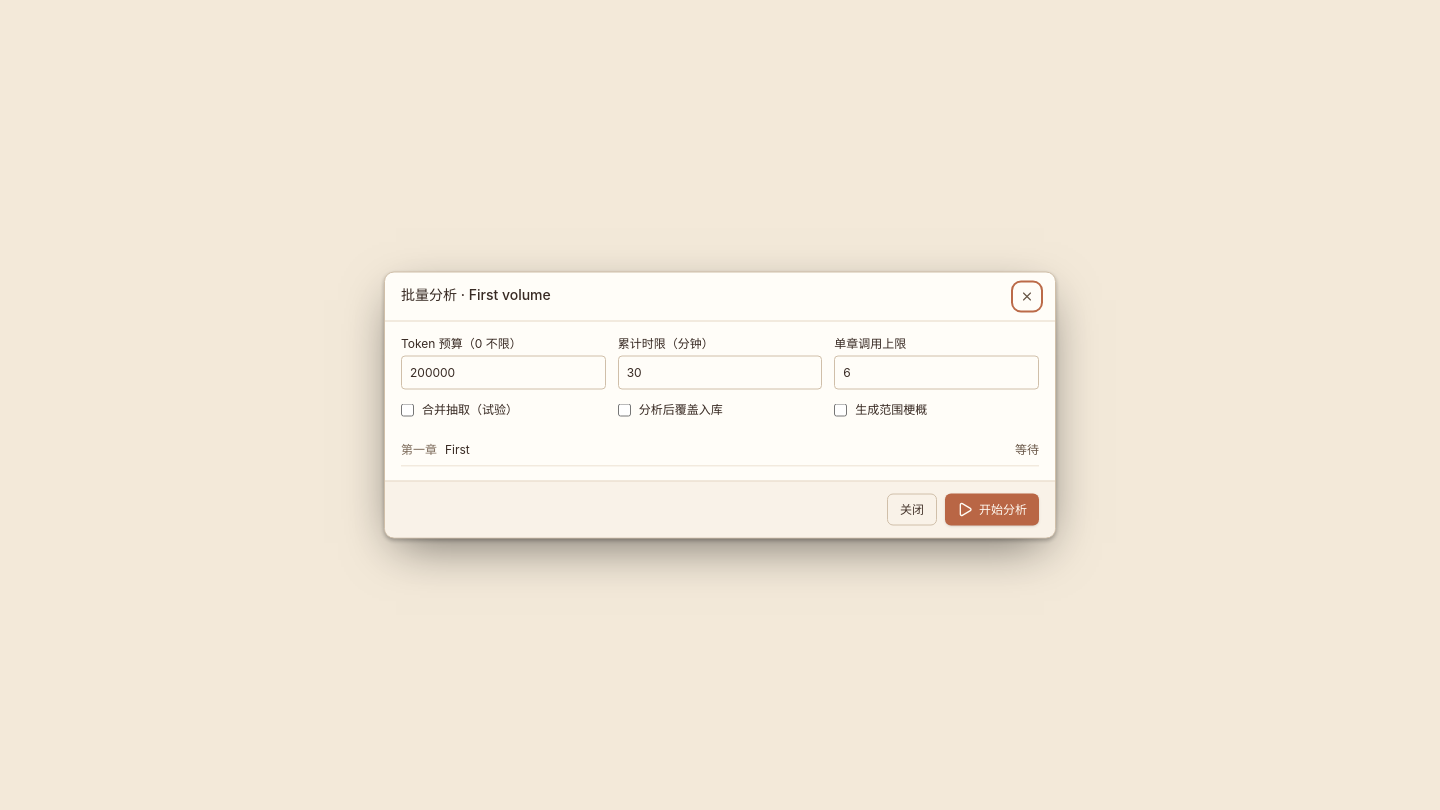
durable chapter analysis › waits for explicit start and defaults to preview even for one chapter
The width and height of the screenshot is (1440, 810).
Replace the text in the number field labelled "Token 预算" with "10000" at (503, 372), box [401, 356, 606, 390]
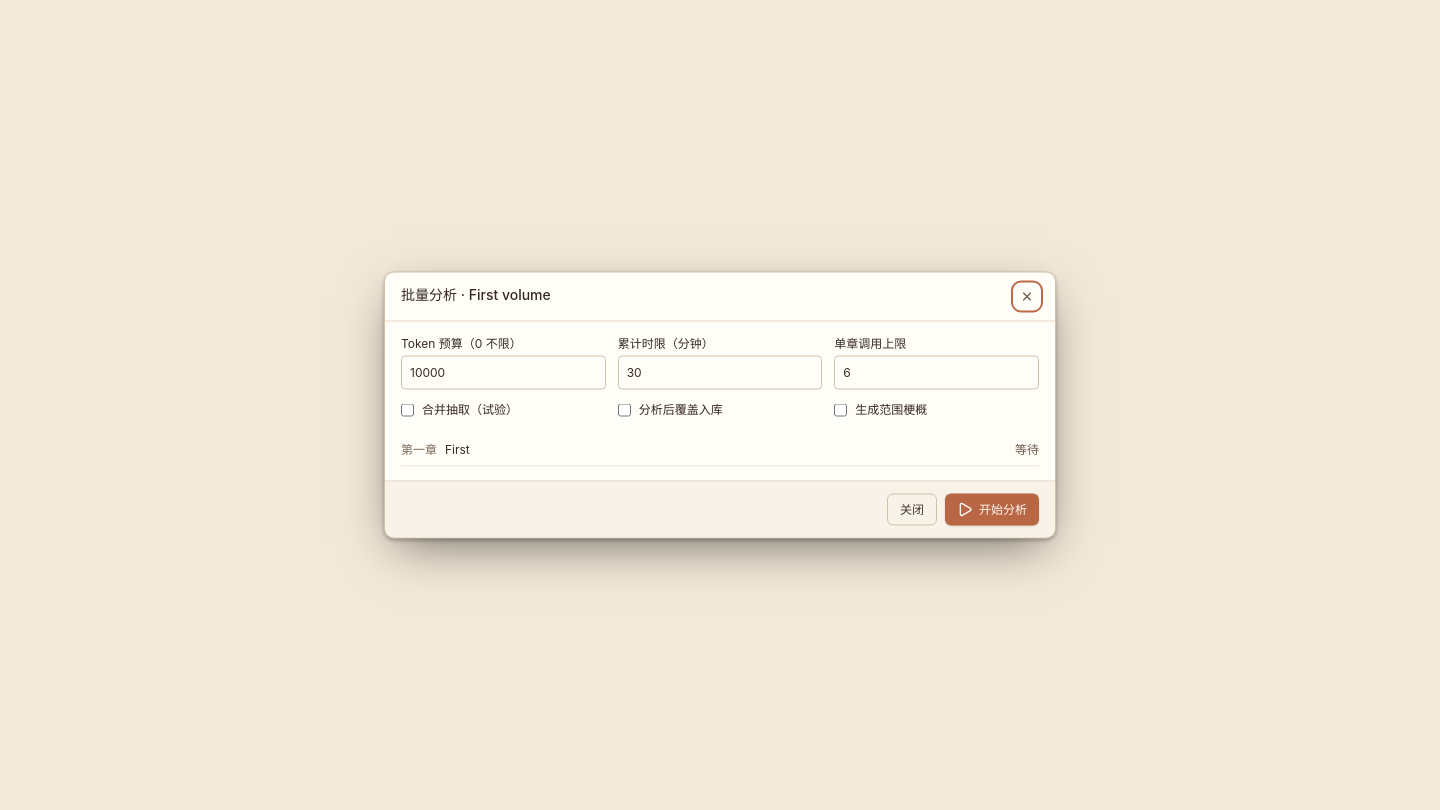
Click the button "开始分析" at (992, 510), box [945, 494, 1039, 526]
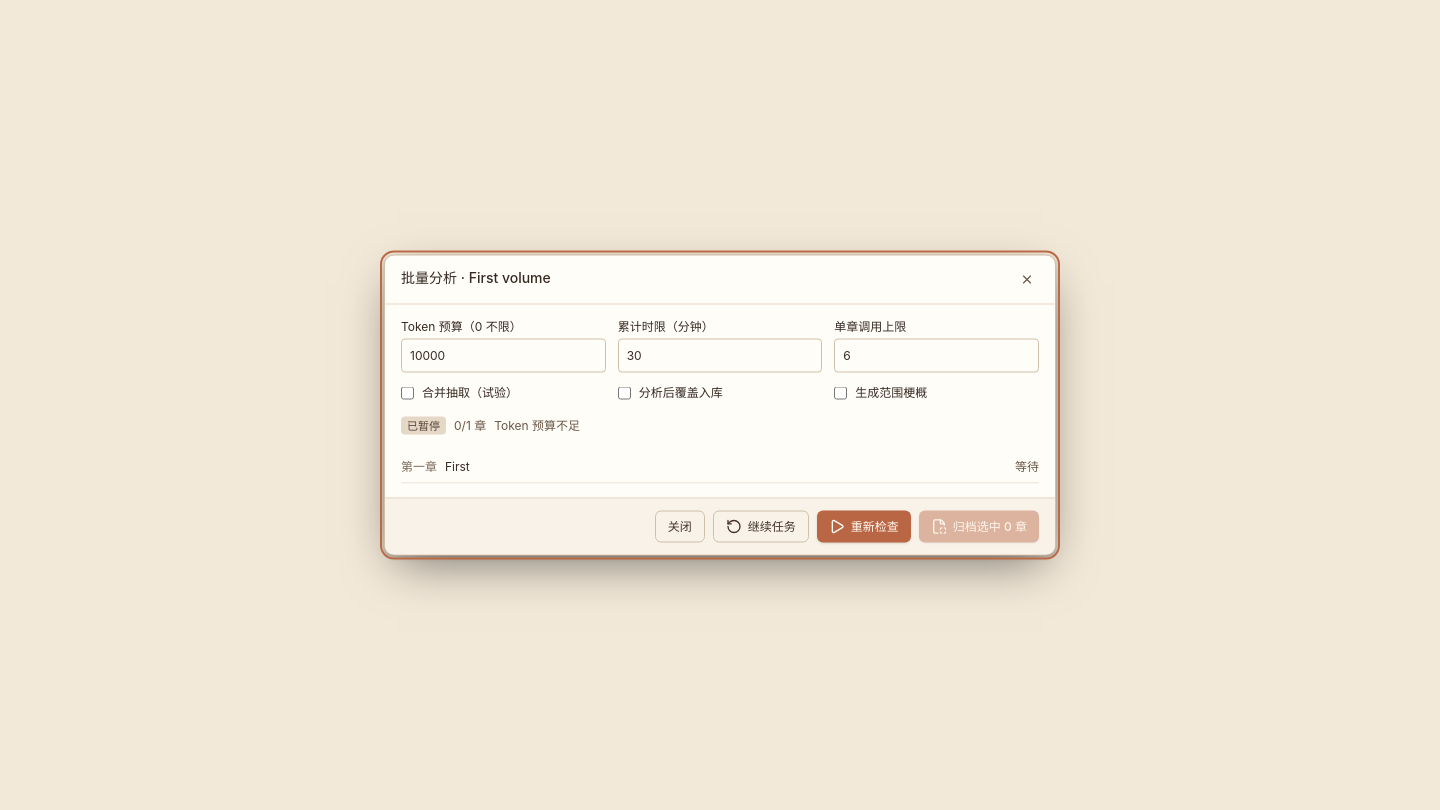
Now the text "Token 预算不足" is shown, box [494, 418, 580, 434]
